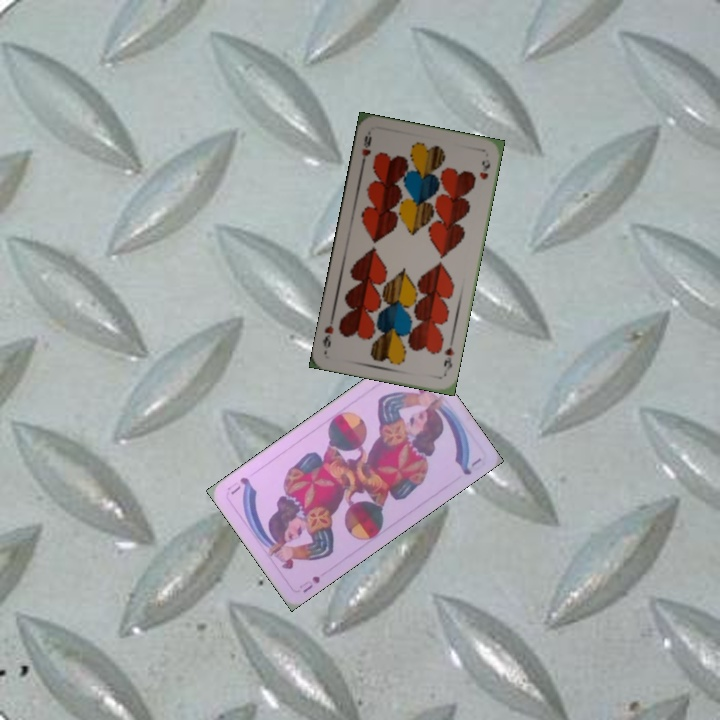H9: (357, 129, 374, 169), (439, 343, 457, 378)
SU: (299, 572, 323, 596)
